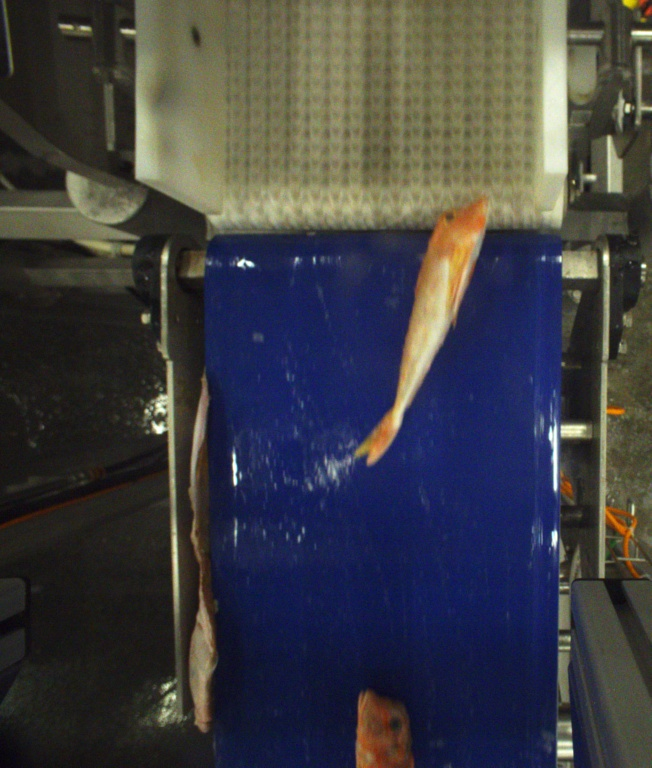GUU: (344, 195, 495, 472)
